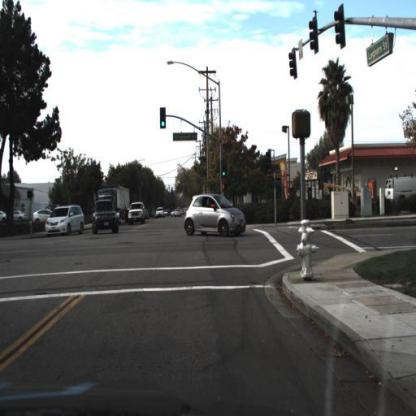car: (182, 190, 248, 240), (44, 204, 86, 236), (91, 199, 121, 241), (386, 176, 416, 214), (127, 202, 148, 227), (154, 207, 167, 221)
trafficLight-Green: (161, 108, 168, 131), (221, 163, 227, 184)
truck: (101, 184, 131, 204)
